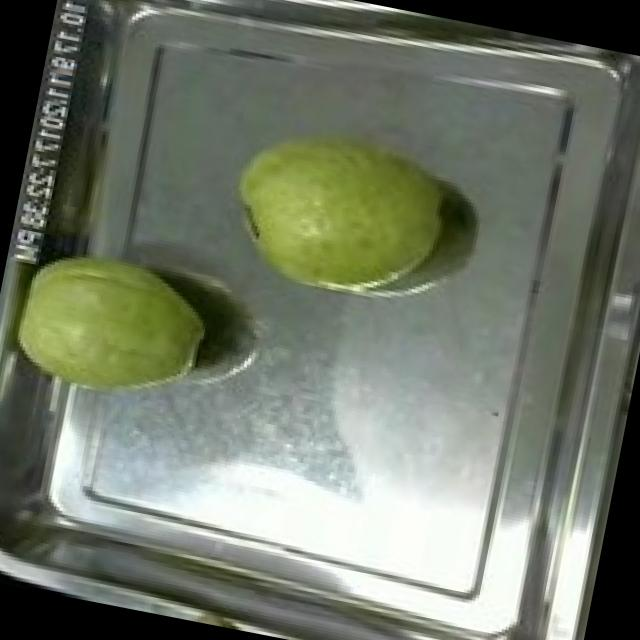Fruit: (212, 98, 470, 328), (0, 226, 226, 423)
